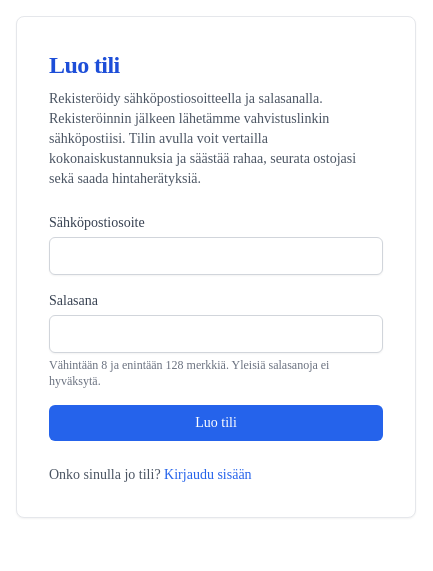
RegisterPage › shows the retry message on 429 rate limiting
Type "kayttaja@example.fi" into the field labelled "Sähköpostiosoite".
click(216, 256); type("kayttaja@example.fi")  # box [49,237,383,275]
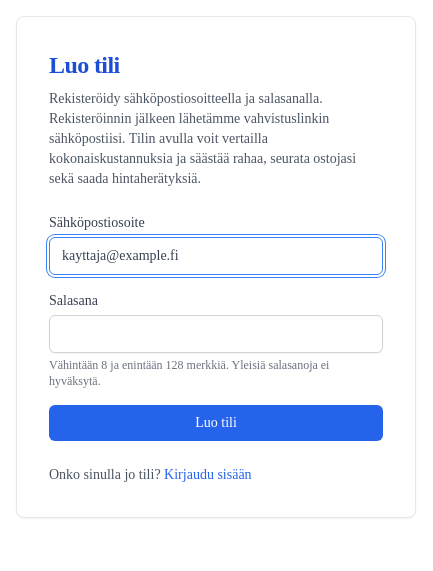
Type "salasana-12-merkKIna" into the password field labelled "Salasana".
click(216, 334); type("salasana-12-merkKIna")  # box [49,315,383,353]
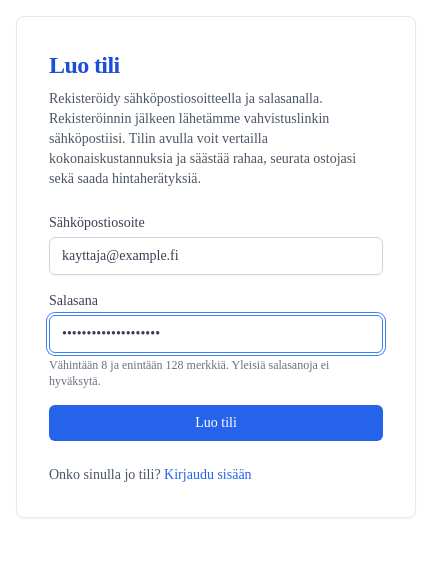
Click the button with test id "register-submit".
click(216, 423)  # box [49,405,383,441]
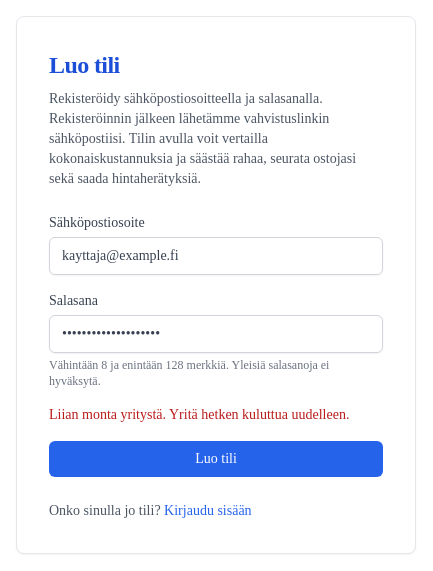
Now the message with test id "register-failure" shows "Liian monta yritystä.", box [49,407,349,422]
